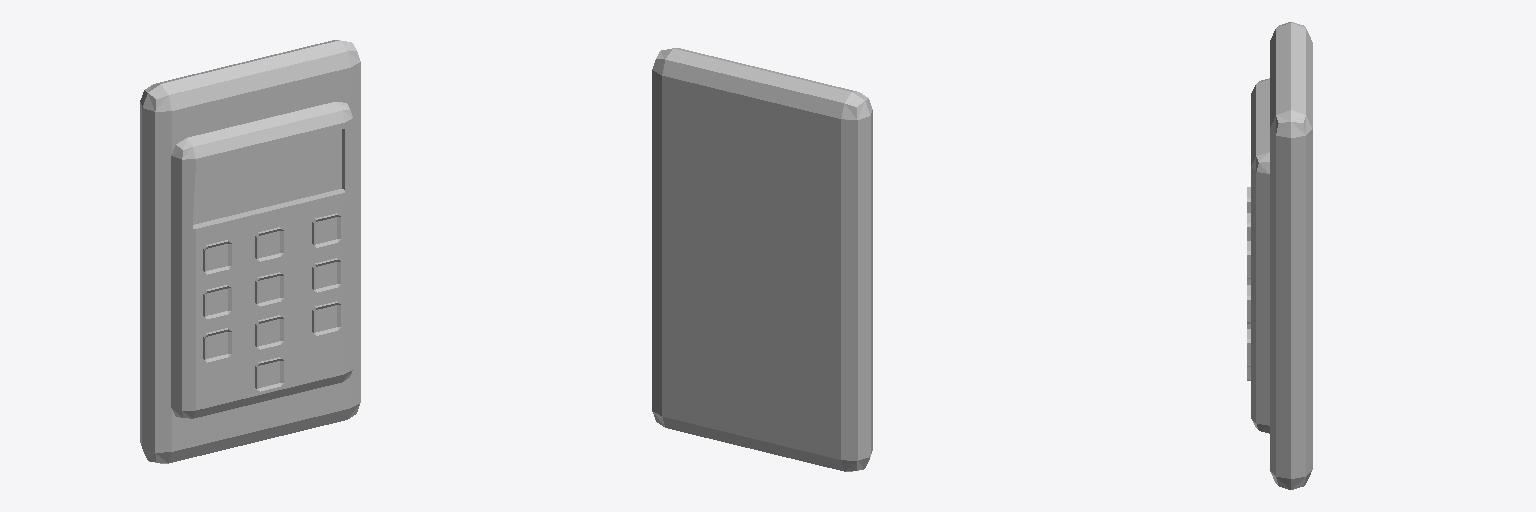
Rendered from Codelock.obj.
3 renders of one model, left to right at view 1: azimuth 30°, elevation 25°; view 2: azimuth 150°, elevation 25°; view 3: azimuth 270°, elevation 25°, orthographic.
Visible parts, largest first — view 1: pCube4, pCube1, group1 pCube6, group1 pCube8, group1 pCube9, group1 pCube12, group1 pCube7, group1 pCube14, pCube5 group1, group1 pCube13, group1 pCube10, group1 pCube11; view 2: pCube1; view 3: pCube1, pCube4.
Part boxes in pixels (x1,y1,x2,y2): pCube4: (171,102,352,418); pCube1: (140,40,360,463); group1 pCube6: (255,227,283,261); group1 pCube8: (203,285,231,318); group1 pCube9: (255,272,283,306); group1 pCube12: (255,315,283,349); group1 pCube7: (312,213,340,247); group1 pCube14: (255,357,283,391); pCube5 group1: (203,240,231,274); group1 pCube13: (312,301,340,335); group1 pCube10: (312,258,340,292); group1 pCube11: (203,328,231,362); pCube1: (652,48,872,471); pCube1: (1270,22,1312,489); pCube4: (1251,78,1269,433).
Bounding box in the file's own units: 2.72 × 4.57 × 0.7095.